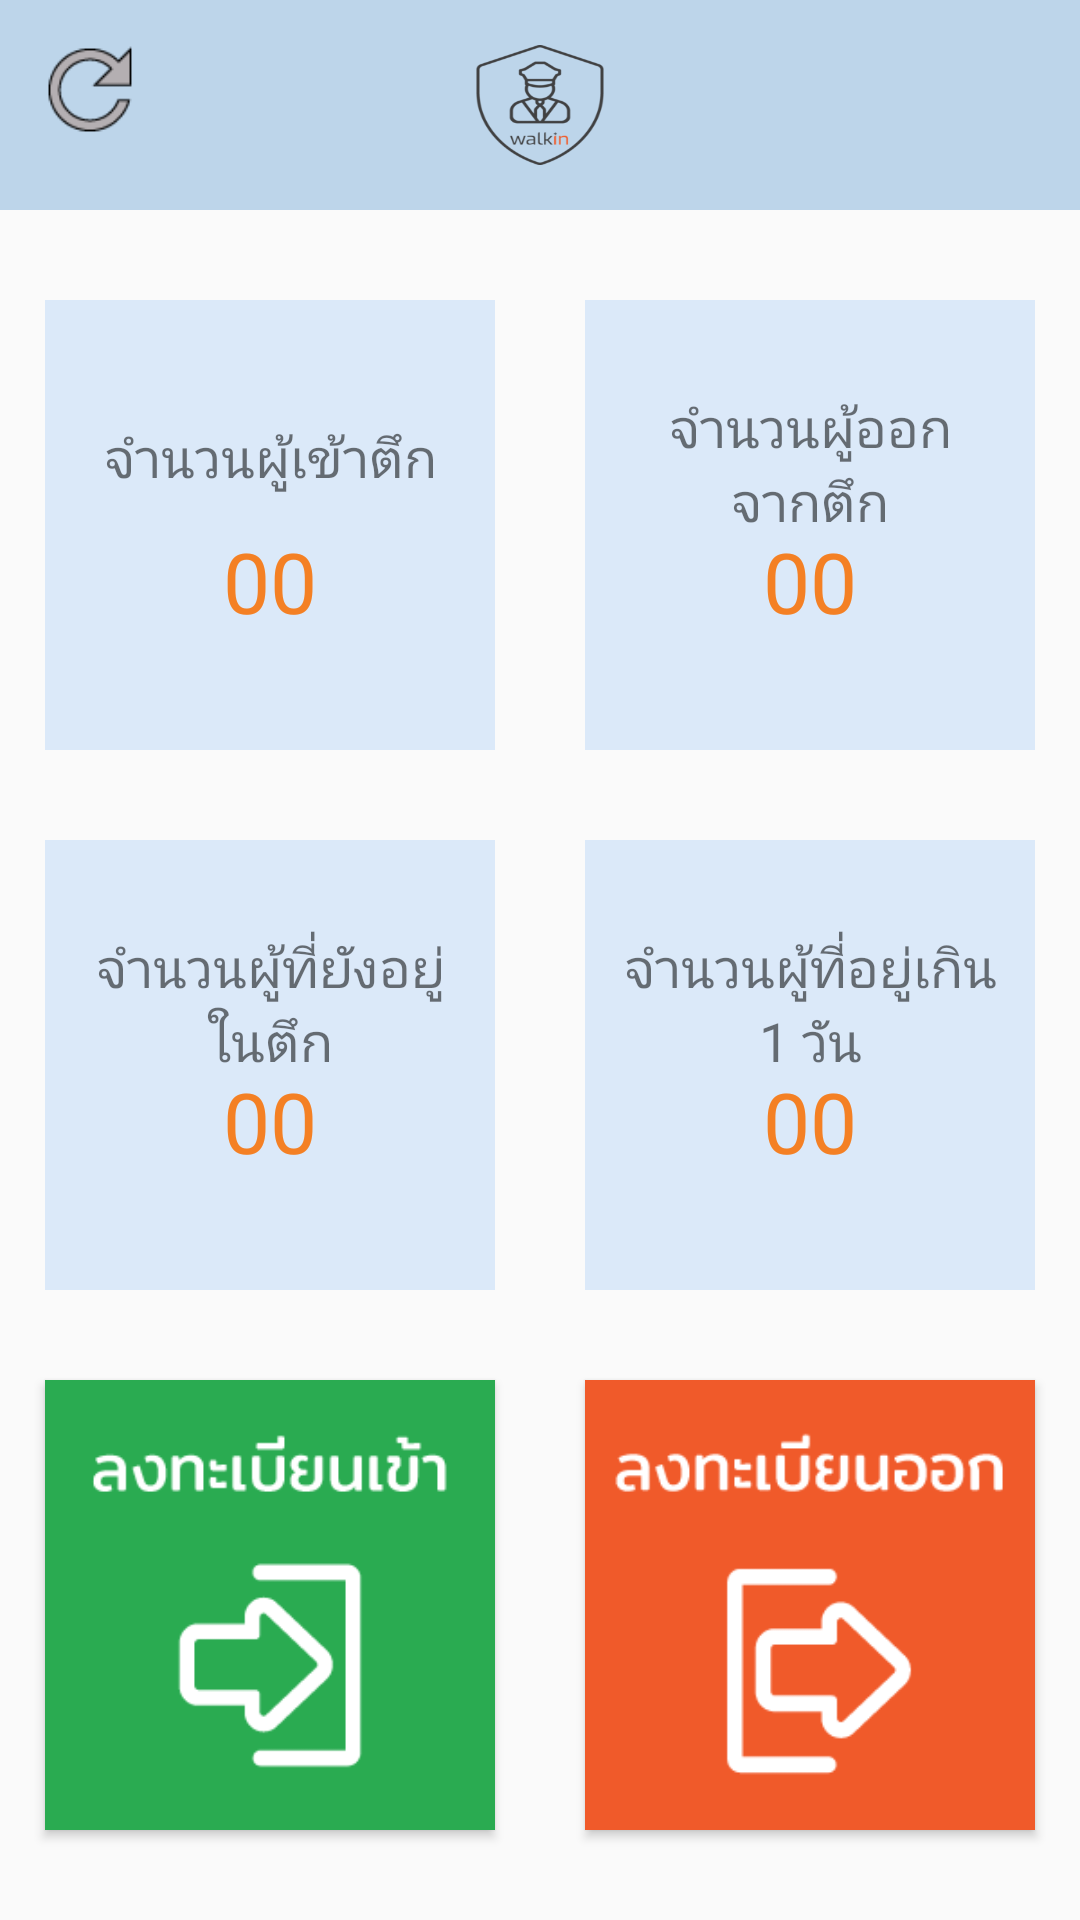

Locate icon controls on the screen. Image size 1080 x 1920, boxes as (x1, y1, x2, y2).
refresh: (48, 47, 132, 132)
